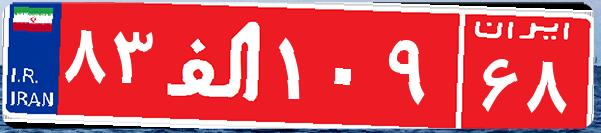0: (330, 28, 385, 110)
1: (273, 28, 330, 110)
3: (110, 28, 158, 105)
6: (475, 38, 525, 113)
8: (57, 26, 110, 107), (525, 38, 570, 115)
9: (385, 28, 445, 110)
الف: (158, 15, 273, 115)
